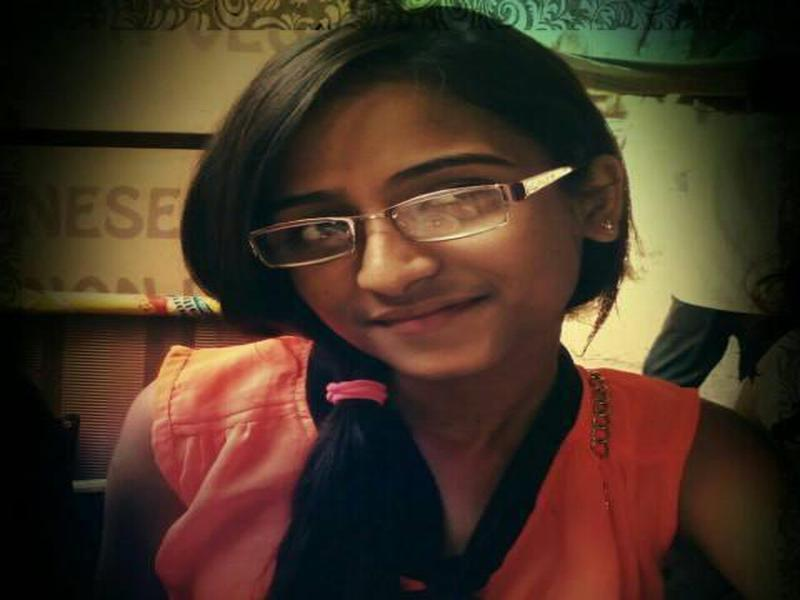without_mask: (255, 136, 556, 378)
